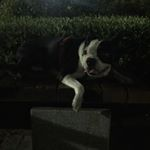puppy: (63, 23, 138, 118)
